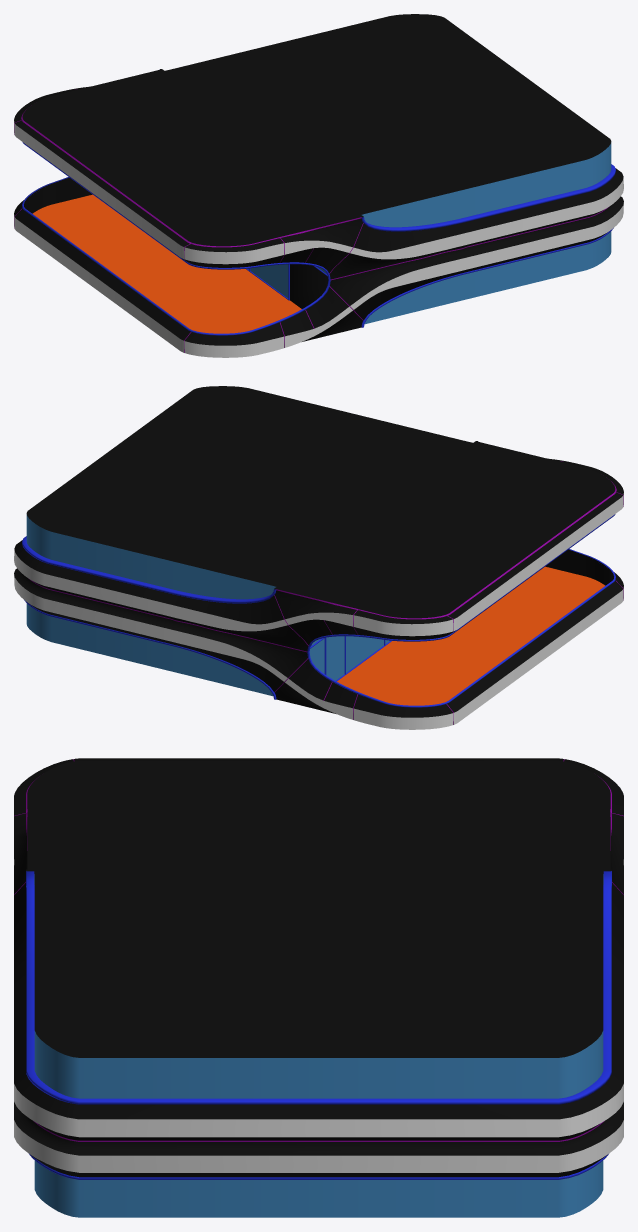
File: SM_Building_MK3_Middle_05.fbx
3 renders of one model, top to bottom at view 1: azimuth 30°, elevation 25°; view 2: azimuth 150°, elevation 25°; view 3: azimuth 270°, elevation 25°, orthographic. The views are drawn at different scales.
Parts seen in each view (by area): view 1: Middle_05; view 2: Middle_05; view 3: Middle_05.
Boxes of the visible parts, x1,y1,x2,y2 form: Middle_05: (14,14,623,357); Middle_05: (14,386,623,729); Middle_05: (14,758,623,1217).
Bounding box in the file's own units: 2092 × 500 × 1731.
